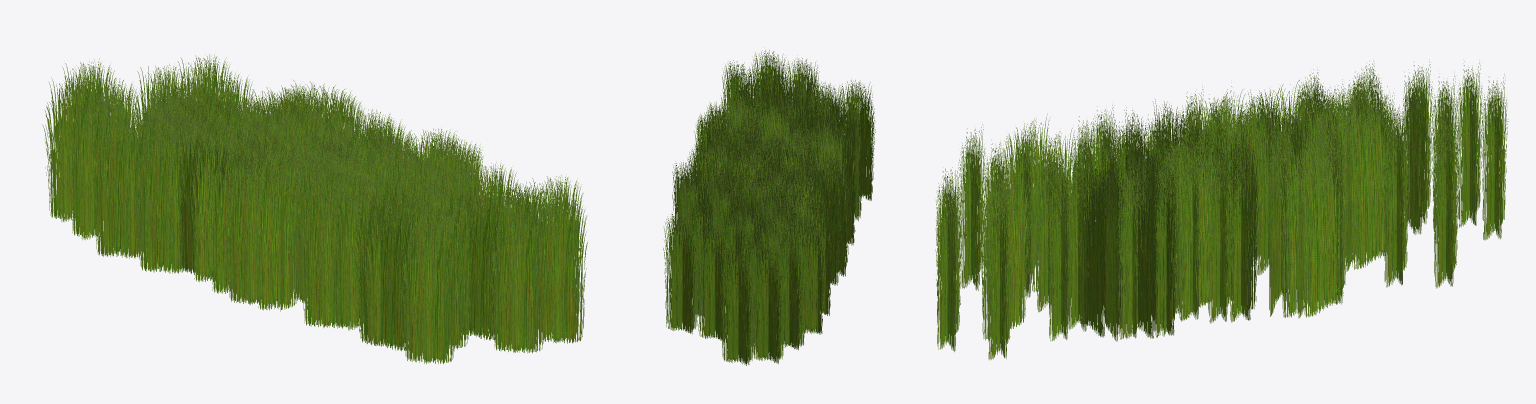
File: TallGrassMolt.FBX
The picture shows the model from 3 angles, left to right: view 1: azimuth 30°, elevation 25°; view 2: azimuth 150°, elevation 25°; view 3: azimuth 270°, elevation 25°; orthographic projection. The views are drawn at different scales.
Visible parts, largest first — view 1: bladejunt; view 2: bladejunt; view 3: bladejunt.
Part boxes in pixels (bbox=[...]): bladejunt: bbox=[42, 54, 587, 363]; bladejunt: bbox=[663, 50, 875, 365]; bladejunt: bbox=[935, 61, 1508, 360].
Size of the model in its own units: 50.43 by 25.06 by 70.16.
